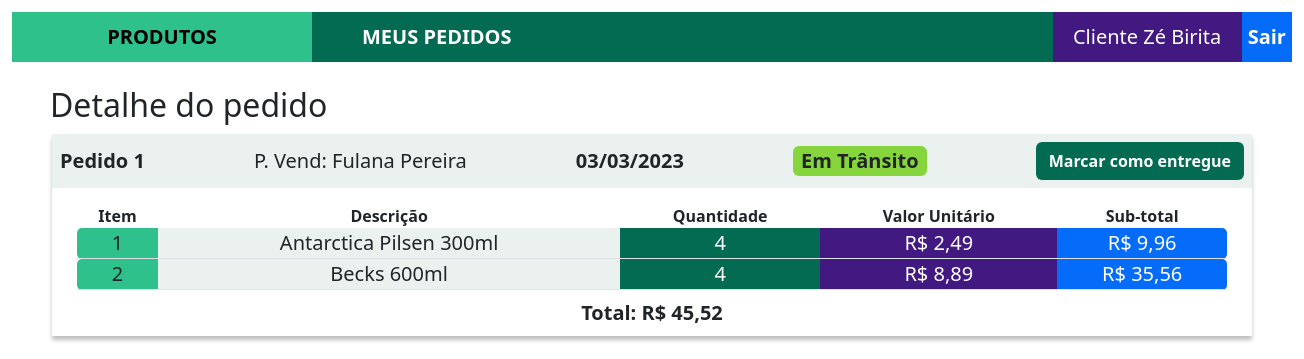
testando páginas Orders › Testa se é possivel alterar status do pedido como customer
This screenshot has width=1304, height=359.
Click the button "Marcar como entregue".
click(1140, 161)  # box [1036,142,1244,180]
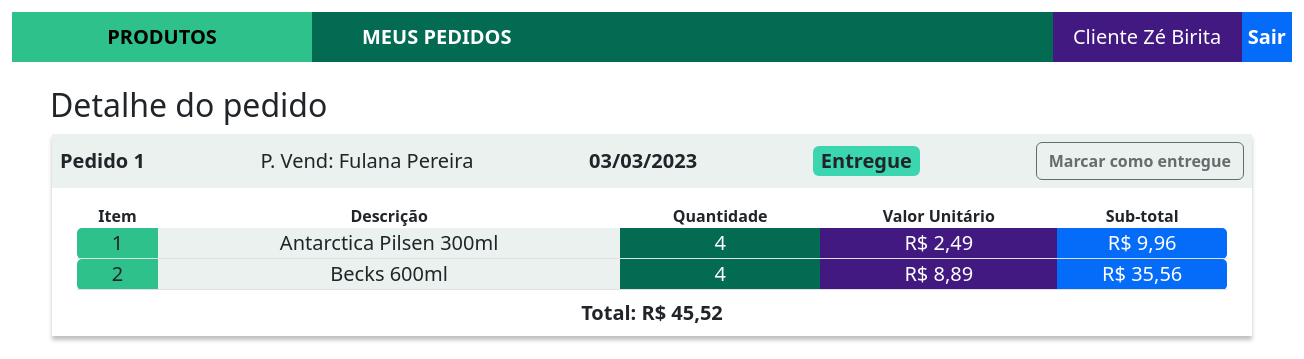
Check: the button "Marcar como entregue" is disabled, box [1036,142,1244,180]
